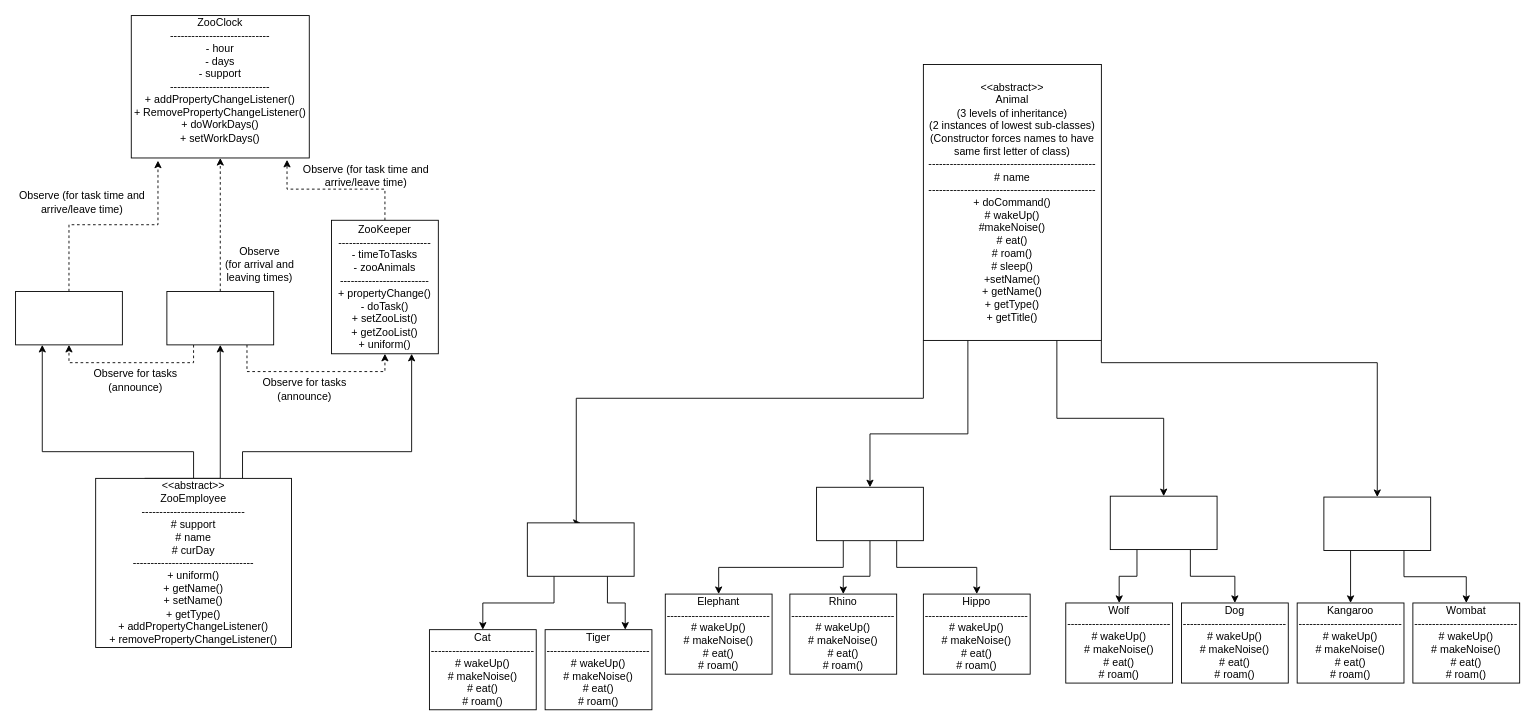
This 1535x725 diagram has some shape labels left out. Each missing label, with the centre of its shape:
Canine: point 1163,522
Feline ----------------------------- # sleep() # roam(): point 580,549
Marsupial ---------------------------- # roam() # sleep(): point 1377,523
Pachyderm ----------------------------- # roam() # sleep(): point 869,513
ZooAnnouncer --------------------------- + uniform() + propertyChange(): point 220,318
ZooFoodServer: point 68,318
